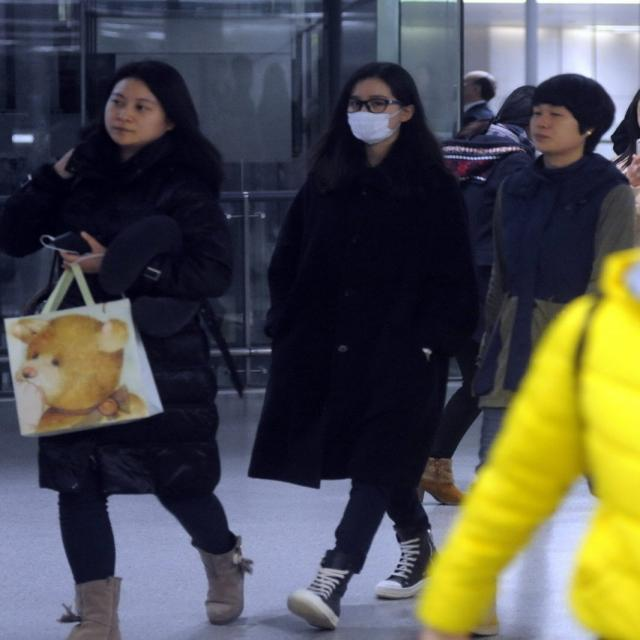mask: (348, 81, 398, 141)
nomask: (105, 78, 163, 146), (530, 99, 578, 152)
